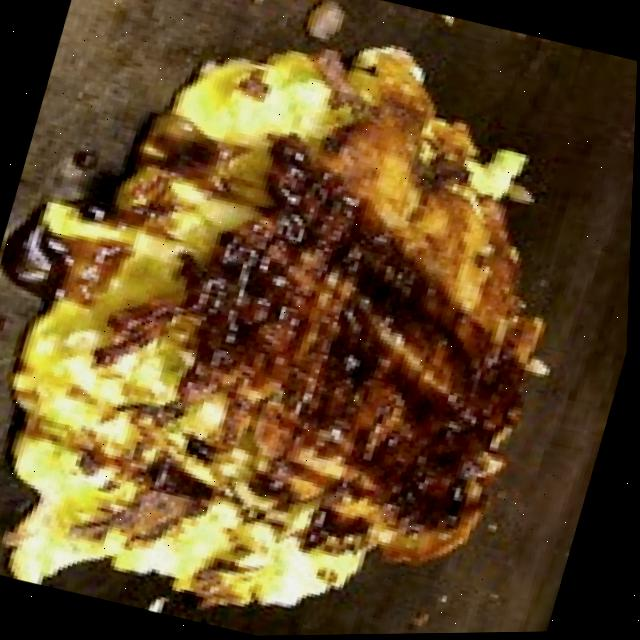蛋糕甜品: (0, 33, 515, 640)
